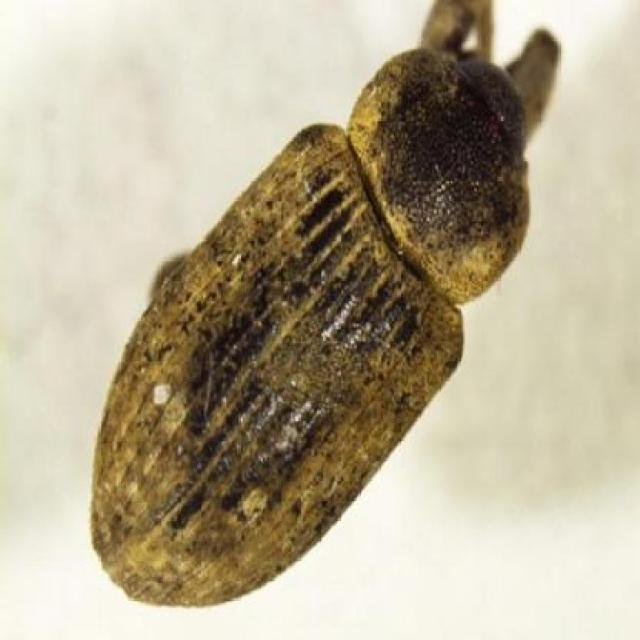rice-bug: (90, 0, 559, 605)
